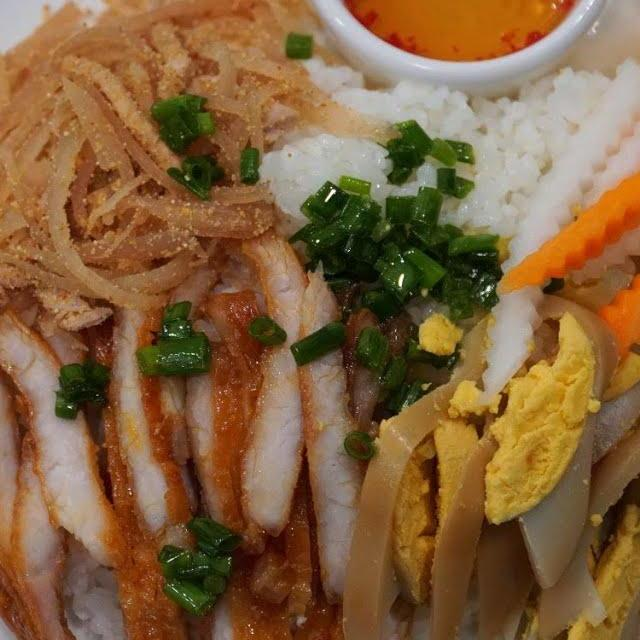bi: (0, 0, 350, 314)
com: (242, 53, 618, 262)
com suon bi trung: (0, 21, 640, 640)
dua chua: (472, 0, 640, 409)
suon: (0, 213, 404, 640)
trung: (337, 262, 640, 640)
